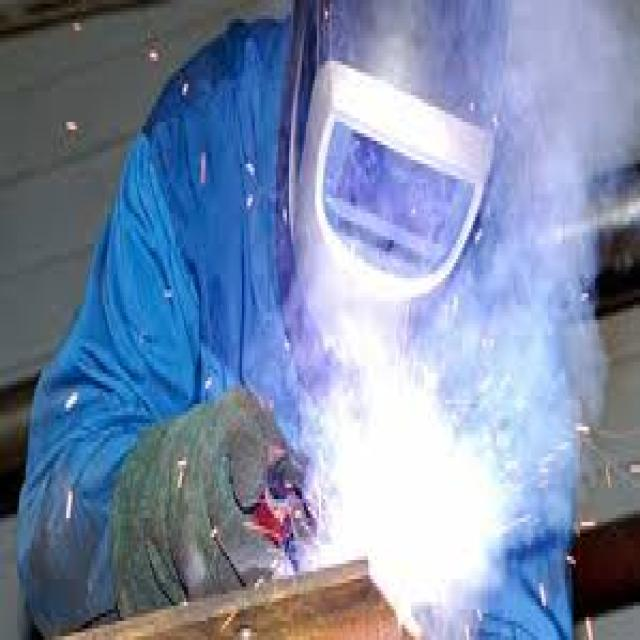welding: (331, 372, 495, 604)
